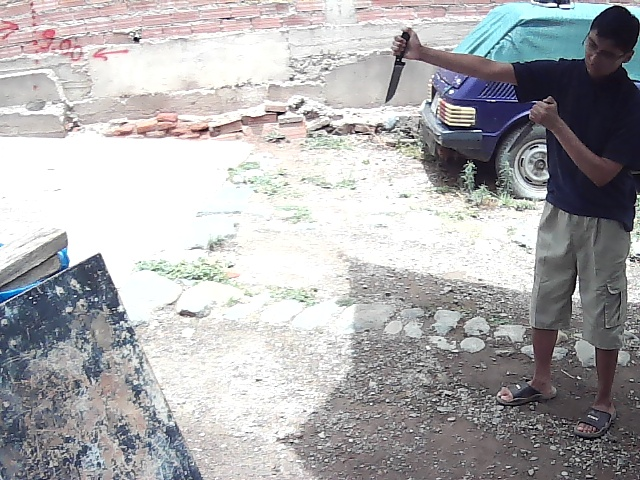cuchillo: (382, 54, 412, 107), (505, 118, 542, 154)
